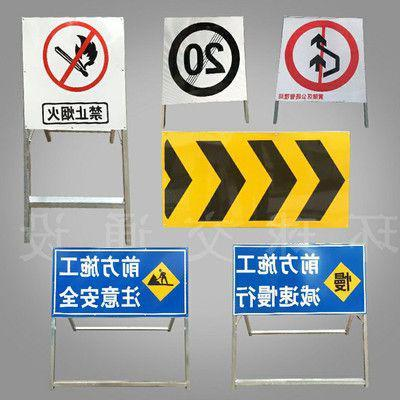sign: (162, 134, 349, 230), (233, 245, 365, 314), (54, 249, 187, 317)
